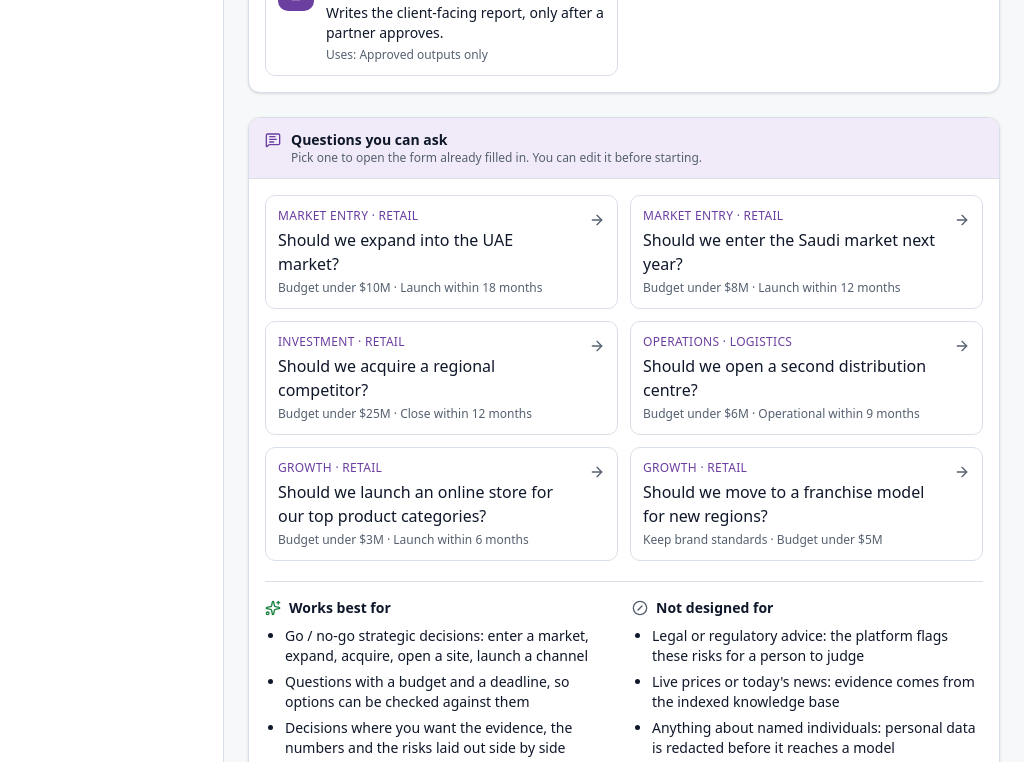
Test case: dashboard overview › offers example questions that open the form already filled in
This screenshot has width=1024, height=762.
(page scrolled)
Click the button "Should we open a second distribution centre?" at (806, 378), box [630,321,983,435]
(page scrolled)
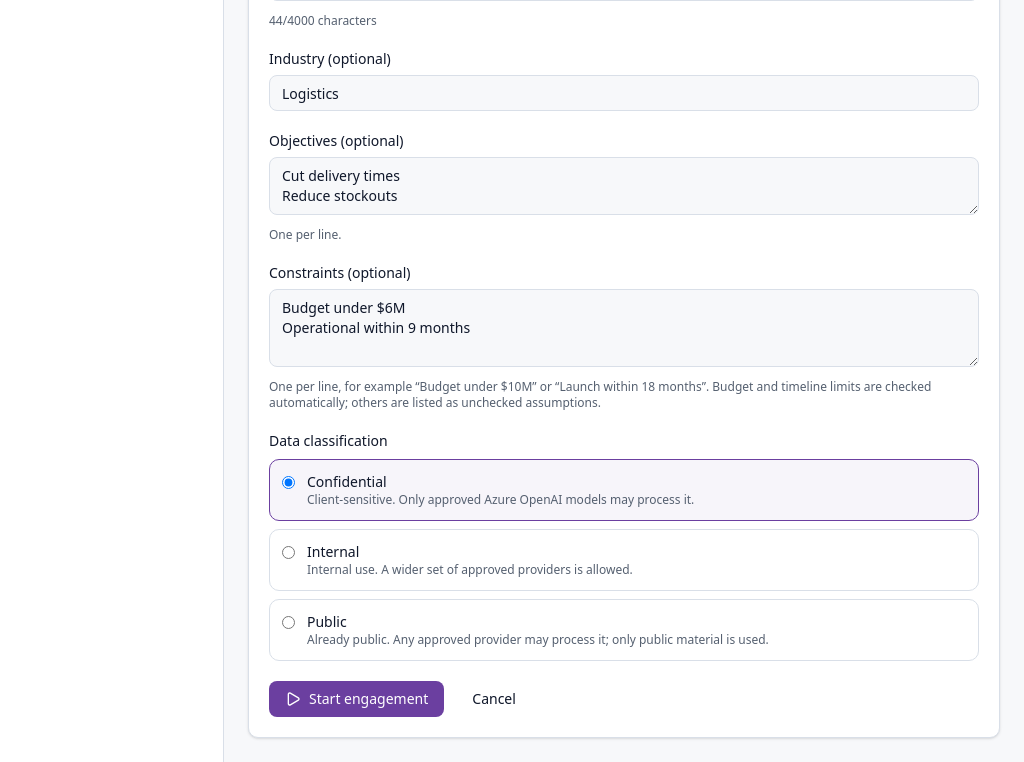
Expected: the field labelled "Industry (optional)" holds "Logistics", [269,75,979,111]
